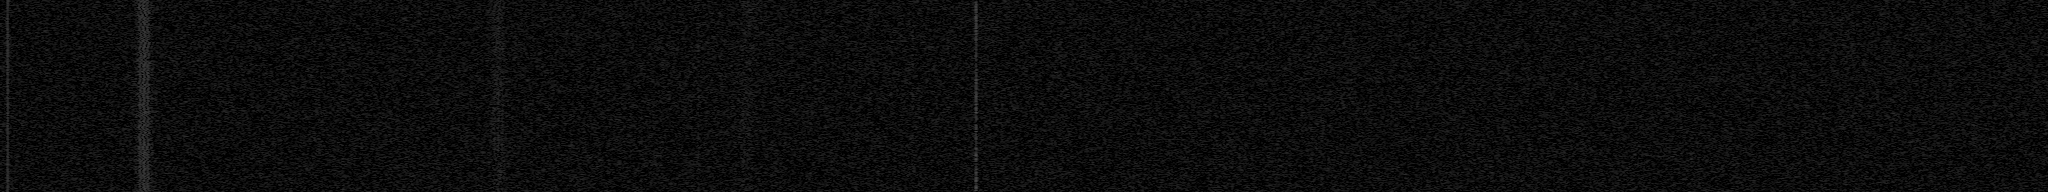wv_am: (5, 0, 10, 192), (696, 0, 701, 192)
wv_lsb: (973, 0, 980, 131), (973, 131, 980, 191), (910, 22, 916, 91), (910, 142, 916, 168), (341, 153, 345, 187), (341, 67, 345, 94), (910, 127, 916, 142), (341, 102, 345, 121), (910, 172, 916, 187), (910, 1, 916, 14), (910, 103, 916, 114), (910, 91, 916, 102), (341, 123, 345, 135), (910, 118, 916, 124), (341, 145, 345, 152), (342, 135, 345, 144), (341, 61, 345, 67), (341, 188, 345, 192), (341, 97, 345, 101), (342, 5, 345, 8), (342, 1, 345, 4)
wv_wbfm: (728, 0, 765, 192), (481, 0, 516, 185), (129, 0, 159, 192), (488, 188, 508, 192)
